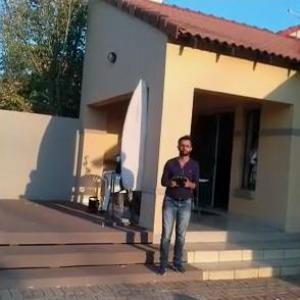follow: (152, 131, 199, 280)
